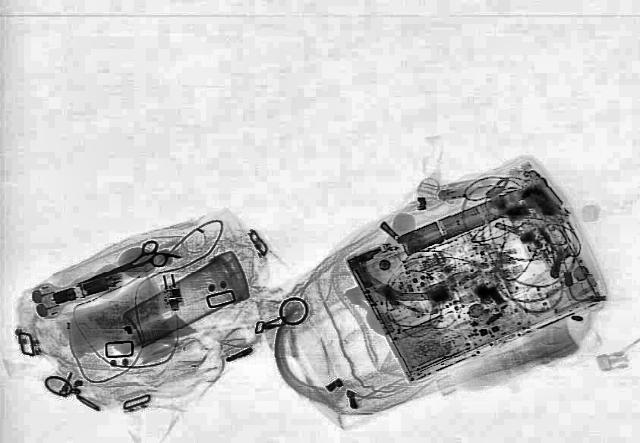Scissors: (66, 237, 176, 295)
